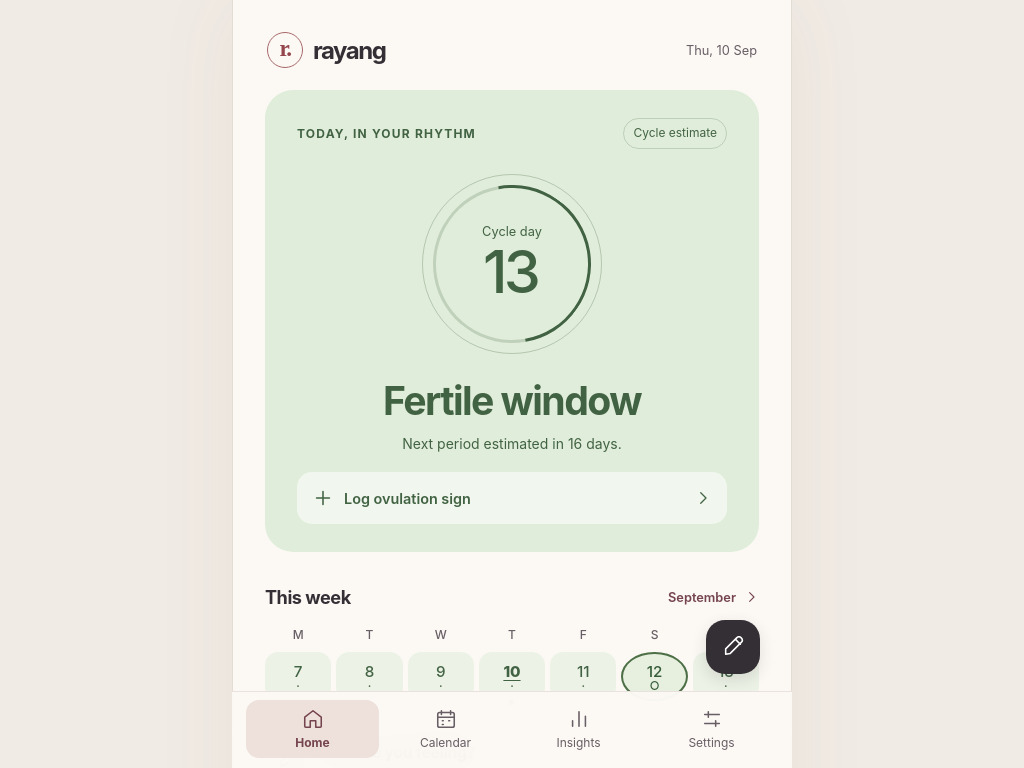
core interaction flows › protects an unsaved diary from accidental closing
Click the button named "Open today’s diary". click: (733, 647)
box: x1=706 y1=620 x2=760 y2=674
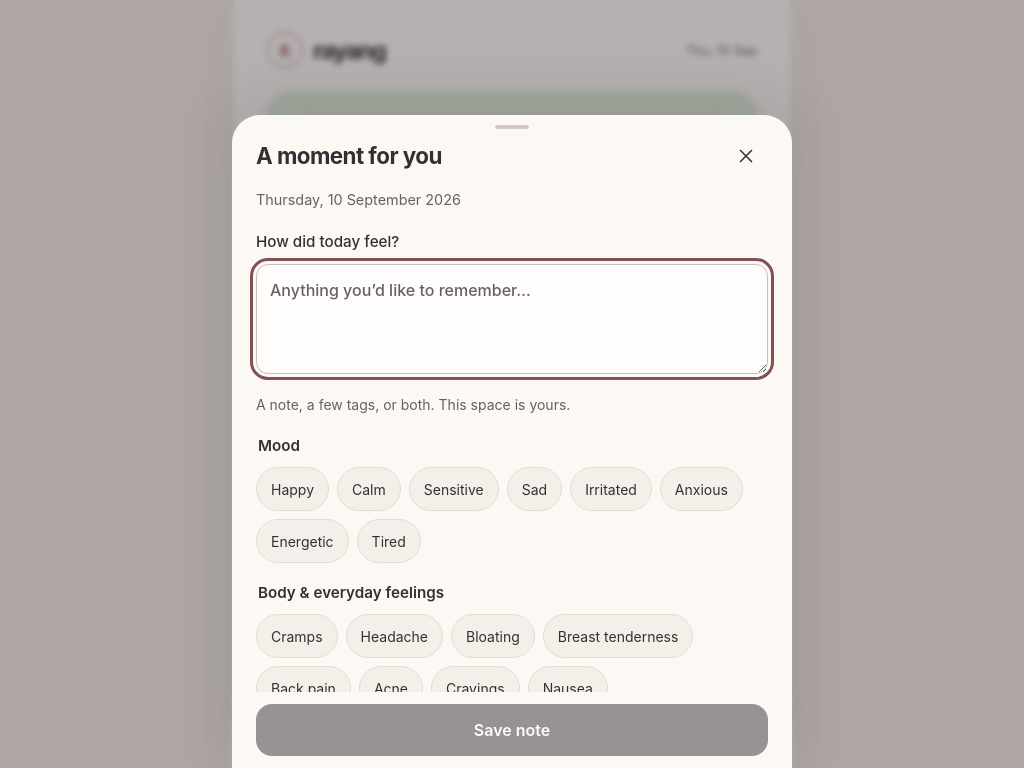
Type "Keep me" into the text box labelled "How did today feel?". click: (512, 319)
box: x1=256 y1=264 x2=768 y2=374
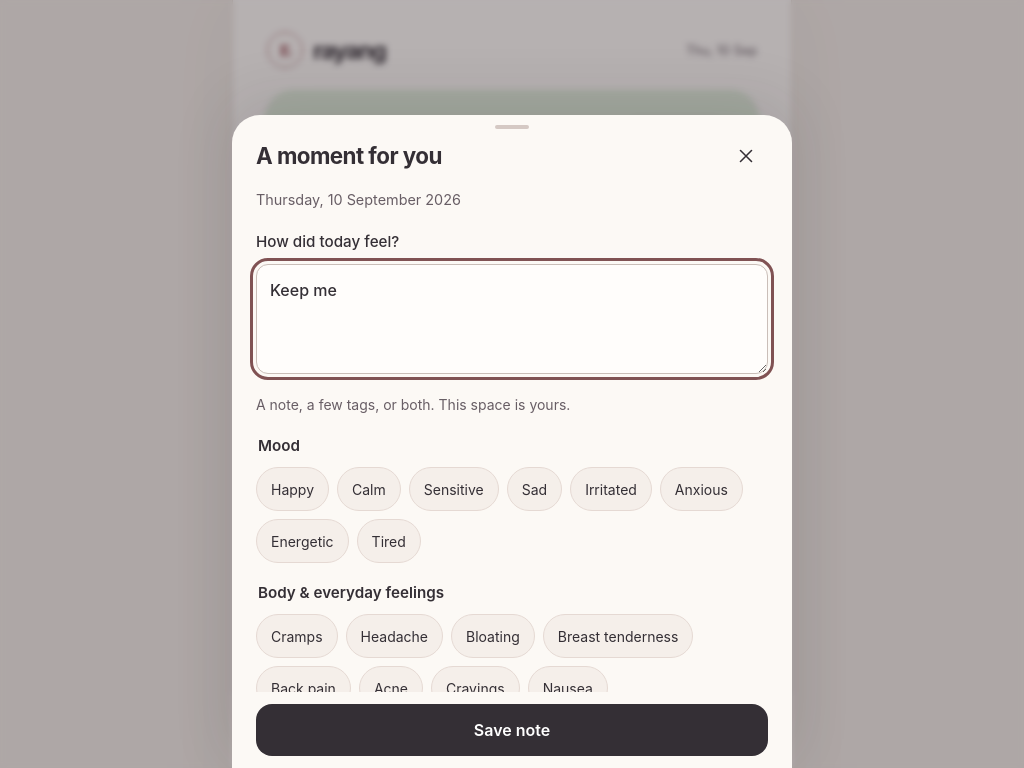
Click the button named "Close". click: (746, 156)
box: x1=724 y1=134 x2=768 y2=178
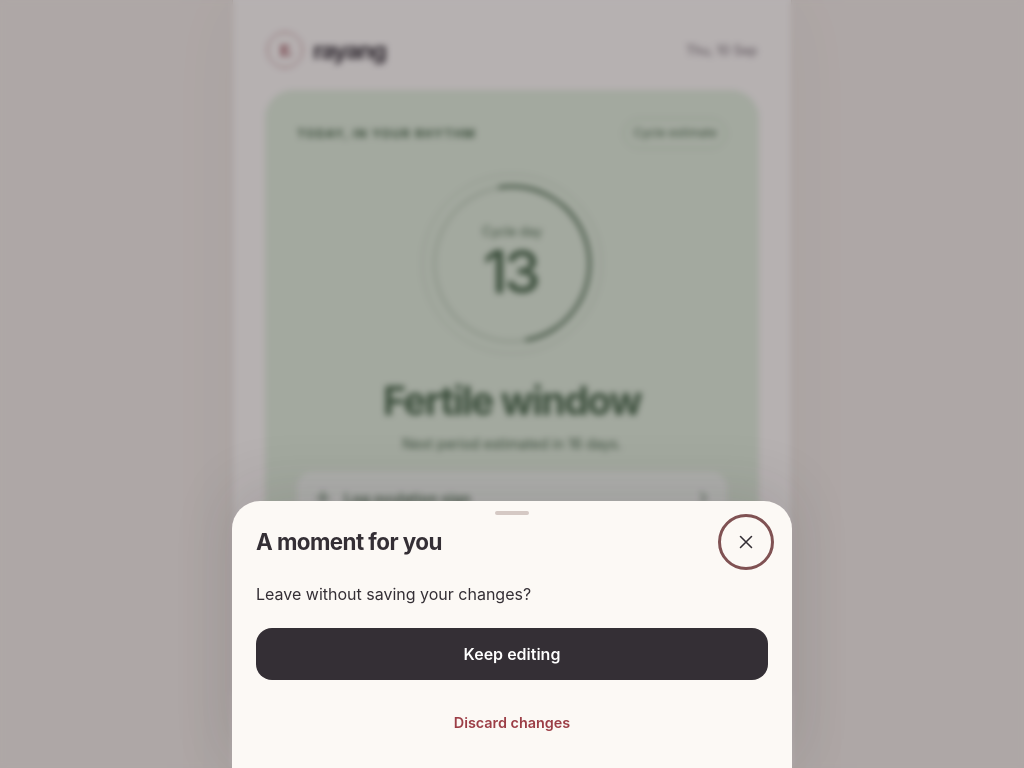
Click the button "Keep editing". click: (512, 654)
box: x1=256 y1=628 x2=768 y2=680
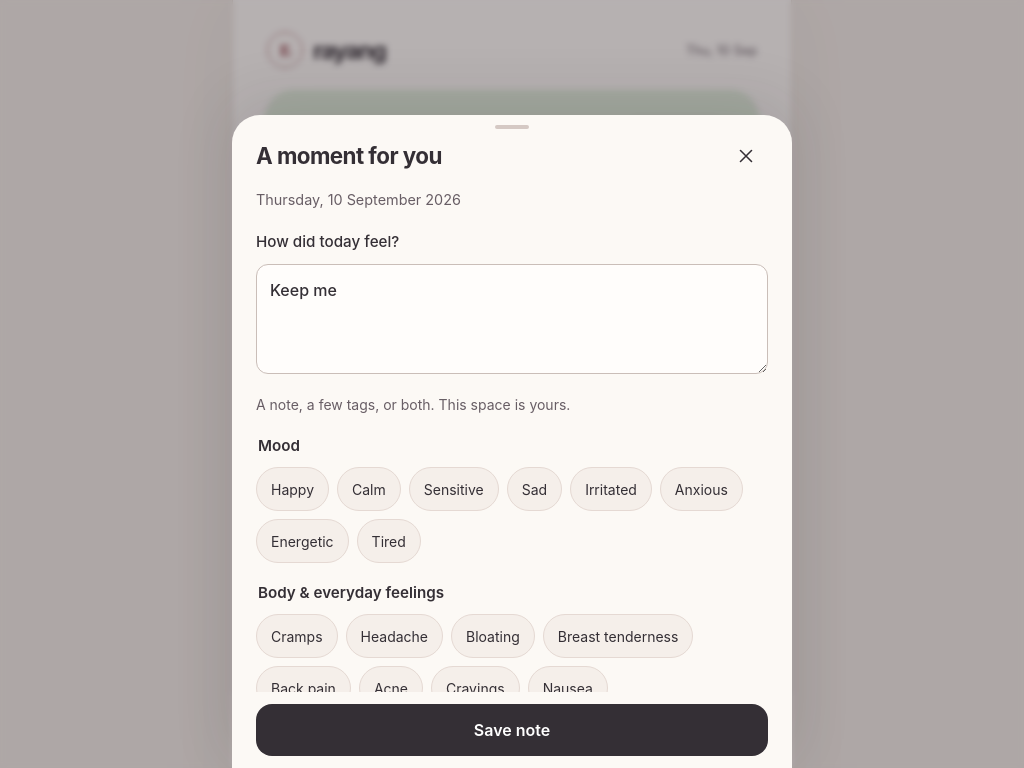
Expected: the text box labelled "How did today feel?" holds "Keep me", x1=256 y1=264 x2=768 y2=374
